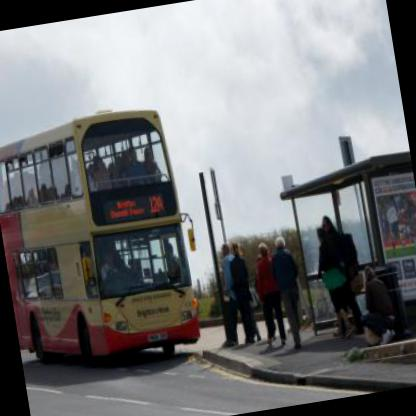bus: (0, 97, 214, 378)
